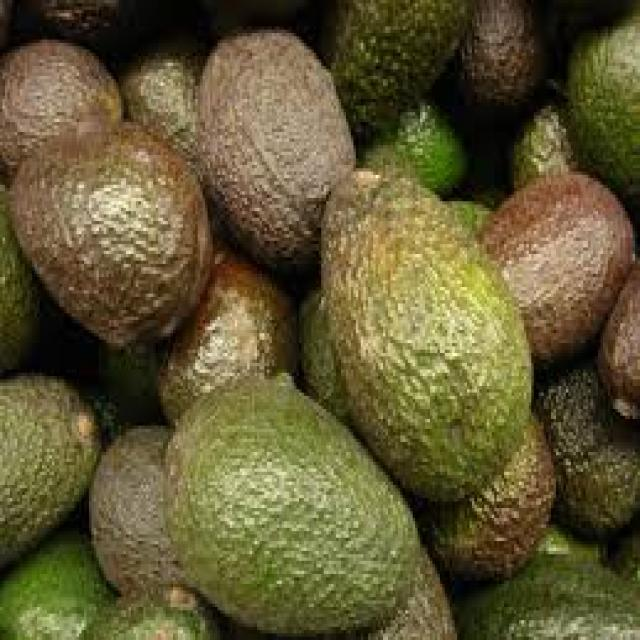avocado: (294, 121, 530, 488), (154, 371, 468, 624), (17, 115, 238, 337), (200, 26, 346, 270), (475, 174, 627, 351), (534, 352, 640, 565), (0, 346, 97, 576), (0, 19, 133, 157), (474, 561, 640, 640), (566, 7, 640, 176), (448, 0, 562, 104), (351, 0, 450, 112), (135, 32, 206, 180)
